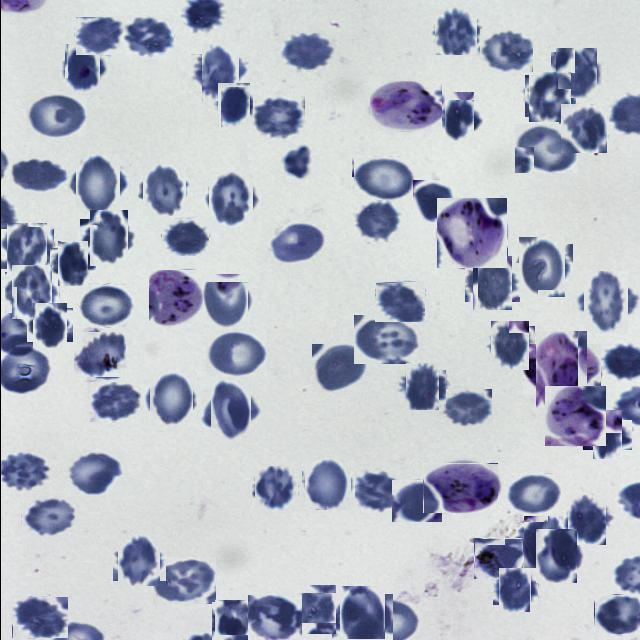gametocyte: (529, 337, 593, 402)
red blood cell: (513, 124, 577, 174), (353, 315, 418, 364), (152, 557, 215, 604), (204, 330, 266, 377), (515, 240, 568, 294), (24, 92, 86, 138), (350, 156, 414, 200), (72, 157, 124, 210), (579, 276, 632, 328), (334, 590, 388, 640), (311, 344, 367, 392), (65, 451, 123, 496), (205, 385, 255, 436), (205, 174, 255, 224), (200, 276, 250, 326), (267, 222, 325, 265), (77, 284, 133, 328), (302, 459, 352, 508), (247, 595, 301, 640), (75, 329, 124, 378), (478, 28, 532, 72), (504, 473, 560, 515), (11, 596, 67, 638), (146, 376, 194, 424), (114, 536, 162, 584), (7, 268, 55, 316), (559, 104, 607, 152), (532, 532, 580, 580), (252, 96, 304, 140), (84, 215, 132, 262), (140, 166, 188, 213), (468, 259, 515, 306), (196, 49, 243, 96), (123, 15, 173, 59), (526, 74, 573, 120), (20, 496, 74, 536), (278, 34, 334, 72), (8, 158, 67, 194), (552, 50, 598, 96), (291, 586, 337, 632), (519, 519, 565, 565), (391, 480, 441, 522), (4, 226, 49, 272), (432, 9, 478, 54), (89, 382, 140, 422), (473, 538, 522, 579), (374, 282, 424, 322), (440, 389, 491, 428), (564, 498, 609, 542), (353, 200, 400, 242), (488, 323, 532, 367), (60, 48, 104, 92), (252, 468, 296, 512), (352, 470, 398, 512), (74, 16, 123, 55), (593, 594, 640, 634), (412, 180, 456, 222), (160, 218, 208, 256), (586, 415, 626, 455), (402, 367, 442, 407), (438, 97, 478, 137), (29, 305, 69, 345), (212, 601, 252, 640), (54, 244, 92, 282), (496, 570, 534, 608), (215, 85, 252, 124)
trophozoite: (436, 198, 507, 268), (422, 463, 497, 513), (544, 386, 605, 446), (369, 81, 441, 131), (148, 270, 206, 328)
